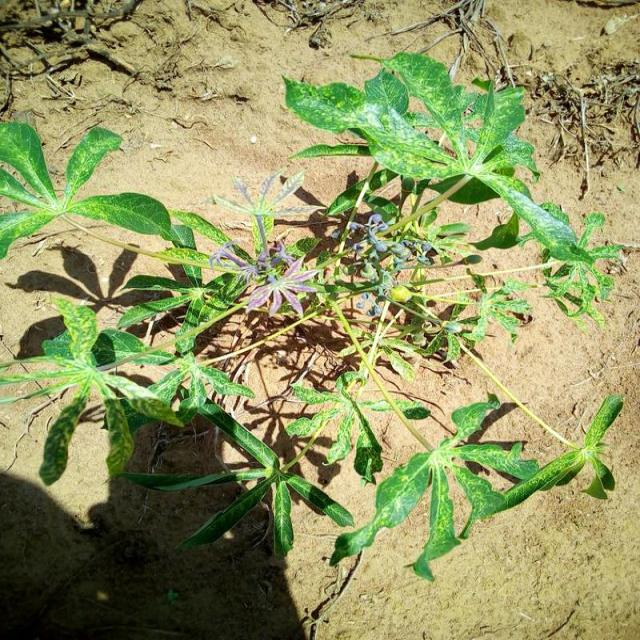cassava leaf: (2, 49, 626, 581), (2, 120, 176, 260)
